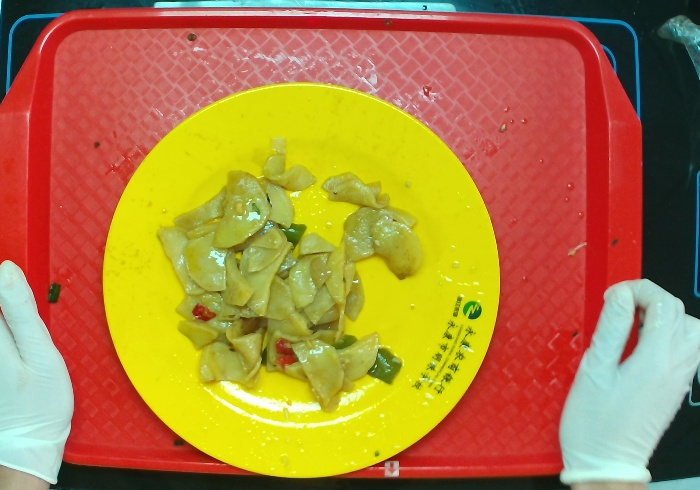YKMZ-Huang_Se_Mian_Pan: (104, 80, 504, 477)
